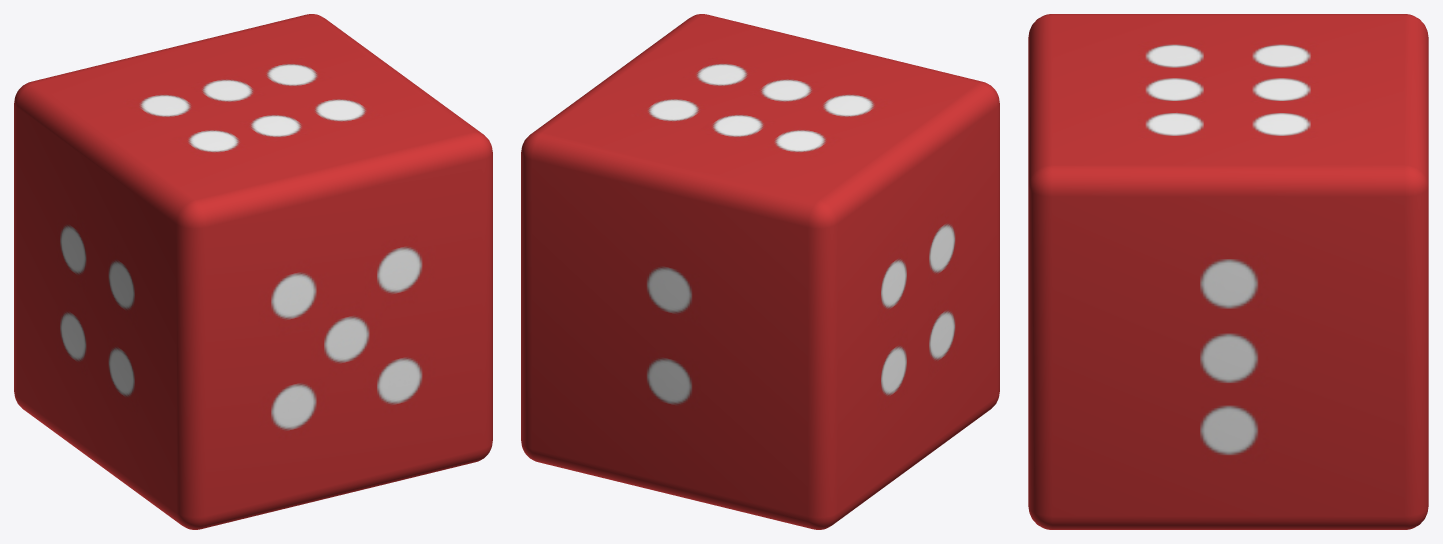
The model's file is dice.FBX.
3 renders of one model, left to right at view 1: azimuth 30°, elevation 25°; view 2: azimuth 150°, elevation 25°; view 3: azimuth 270°, elevation 25°, orthographic. The views are drawn at different scales.
Parts seen in each view (by area): view 1: ChamferBox001; view 2: ChamferBox001; view 3: ChamferBox001.
Boxes of the visible parts, x1,y1,x2,y2 form: ChamferBox001: (14,14,492,529); ChamferBox001: (521,14,999,529); ChamferBox001: (1028,14,1428,529).
Bounding box in the file's own units: 50 × 50 × 50.
1 material, 1 textured.
